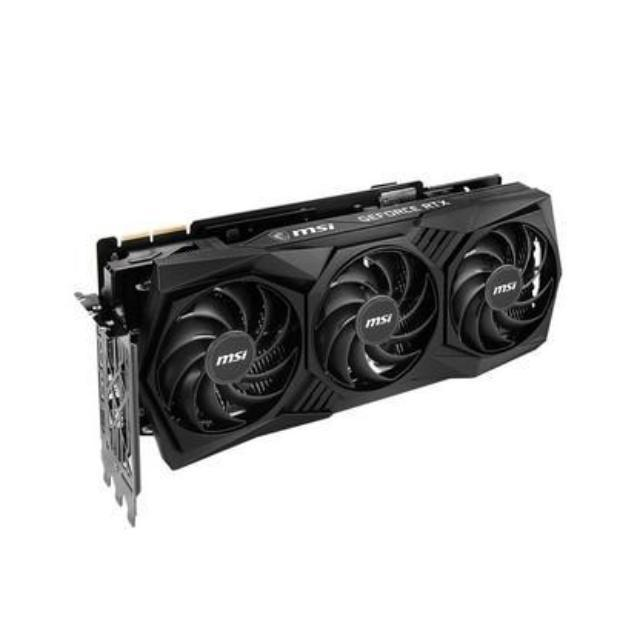GPU: (86, 174, 572, 472)
